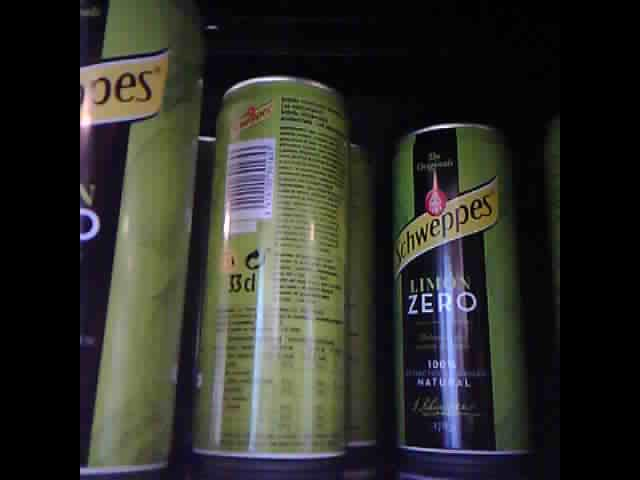schweppes: (187, 68, 352, 462), (78, 1, 204, 476), (388, 114, 529, 458)
